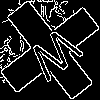W: (25, 25, 91, 90)
